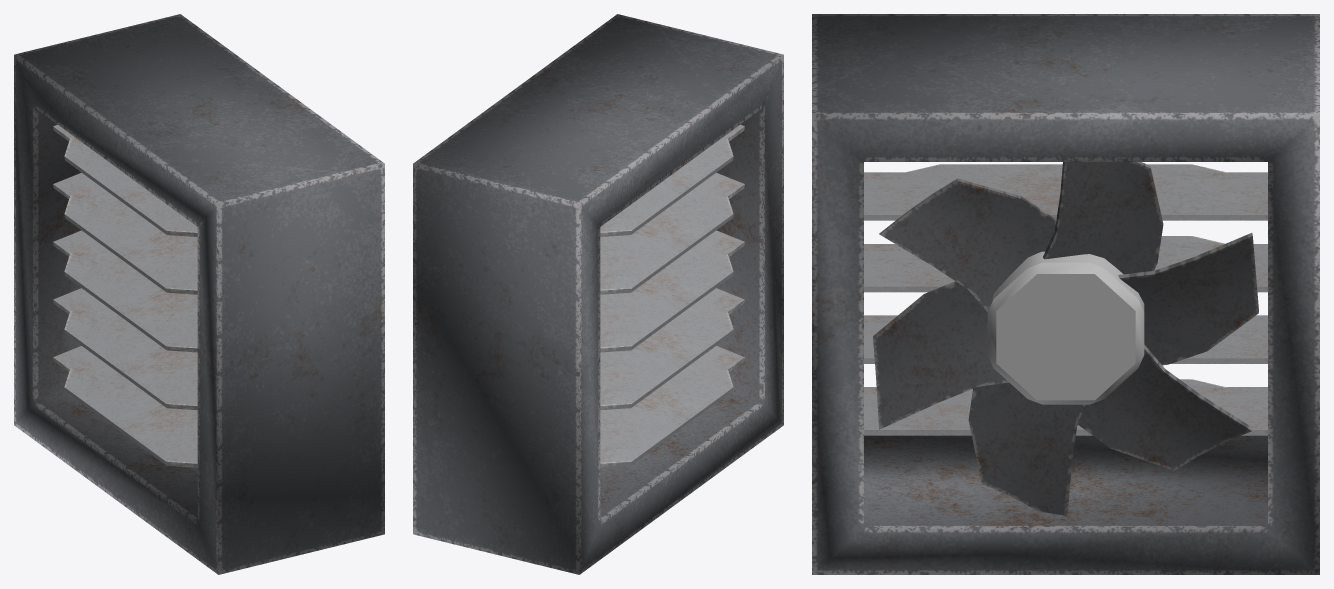
Rendered from PF_VentFan.fbx.
3 renders of one model, left to right at view 1: azimuth 30°, elevation 25°; view 2: azimuth 150°, elevation 25°; view 3: azimuth 270°, elevation 25°, orthographic. The views are drawn at different scales.
Visible parts, largest first — view 1: Vent, Plane; view 2: Vent, Plane; view 3: Vent, Vert, Plane, Cylinder_001.
Boxes of the visible parts, box(x1,y1,x2,y2) form: Vent: box(14, 14, 384, 574); Plane: box(53, 124, 197, 467); Vent: box(413, 14, 783, 574); Plane: box(600, 124, 744, 467); Vent: box(812, 14, 1319, 574); Vert: box(873, 162, 1258, 515); Plane: box(864, 164, 1267, 435); Cylinder_001: box(987, 251, 1144, 404).
Bounding box in the file's own units: 47.27 × 100 × 100.
1 material, 1 textured.
